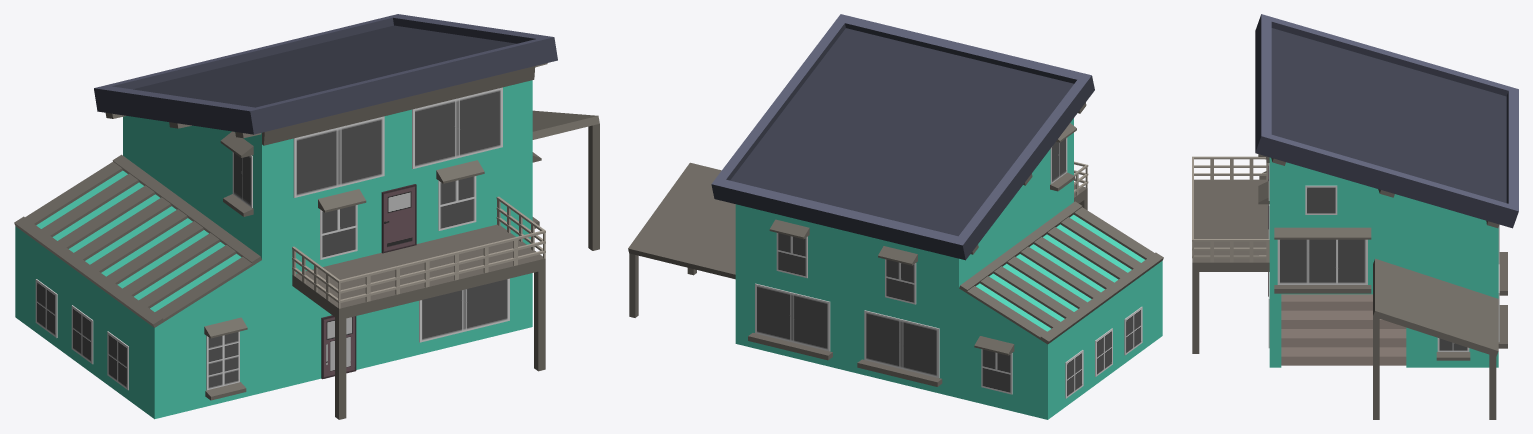
The model's file is house09_color03.fbx.
3 renders of one model, left to right at view 1: azimuth 30°, elevation 25°; view 2: azimuth 150°, elevation 25°; view 3: azimuth 270°, elevation 25°, orthographic. The views are drawn at different scales.
Parts seen in each view (by area): view 1: Cube.416, Cube.417; view 2: Cube.416, Cube.417; view 3: Cube.416, Cube.417.
Boxes of the visible parts, x1=… form: Cube.416: x1=14, y1=14, x2=557, y2=419; Cube.417: x1=532, y1=110, x2=599, y2=250; Cube.416: x1=711, y1=14, x2=1163, y2=419; Cube.417: x1=628, y1=162, x2=735, y2=317; Cube.416: x1=1192, y1=14, x2=1518, y2=367; Cube.417: x1=1373, y1=258, x2=1498, y2=419.
Bounding box in the file's own units: 1891 × 1027 × 1277.
